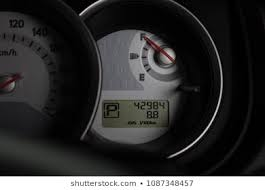Digital_Meter: (103, 101, 168, 126)
